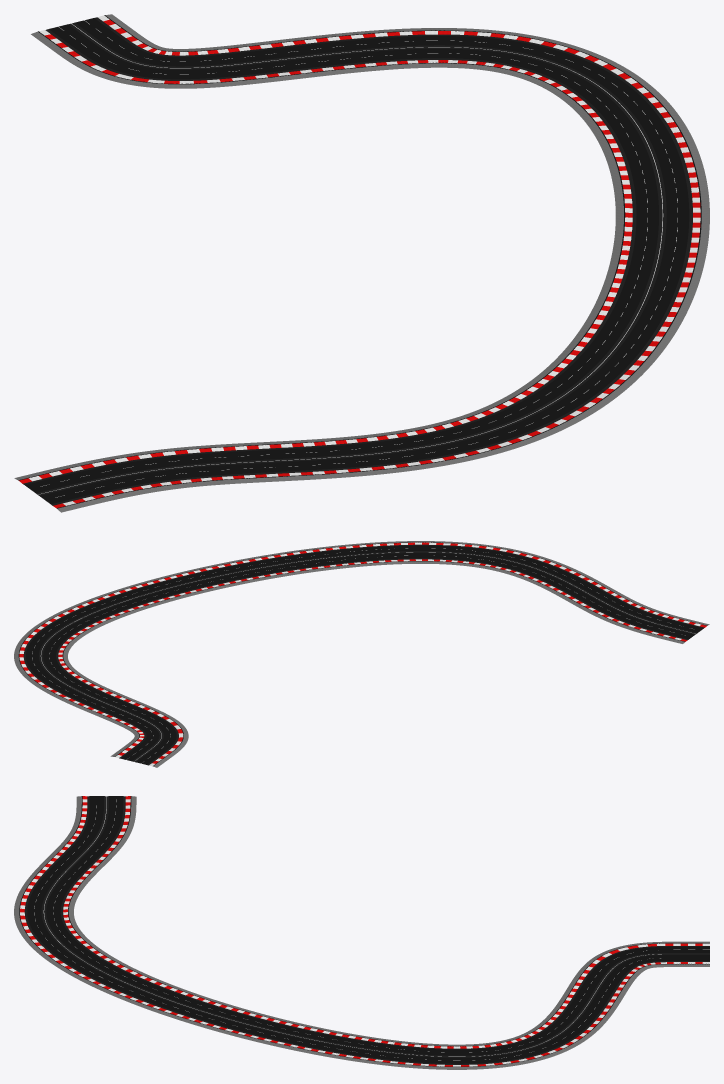
File: S0.3l1-ass3.glb
The picture shows the model from 3 angles, top to bottom: view 1: azimuth 30°, elevation 25°; view 2: azimuth 150°, elevation 25°; view 3: azimuth 270°, elevation 25°; orthographic projection. The views are drawn at different scales.
Parts seen in each view (by area): view 1: Grid; view 2: Grid; view 3: Grid.
Part boxes in pixels (x1,y1,x2,y2): Grid: (14,14,709,512); Grid: (14,541,709,767); Grid: (14,796,709,1069).
Bounding box in the file's own units: 270 × 0.31 × 290.
